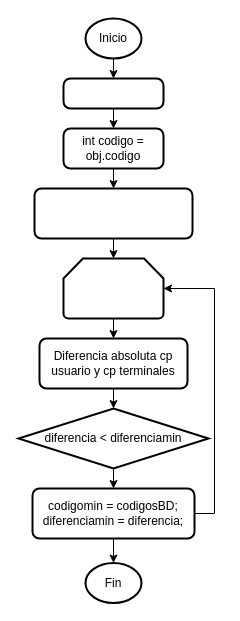
Image size: 240x621. Some labels were removed from this diagram. Each missing label, with the box of its shape:
Query SELECT cp FROM terminals: (33, 187, 193, 239)
terminalCercana: (62, 77, 164, 109)
while tracker.read(): (62, 257, 164, 319)
